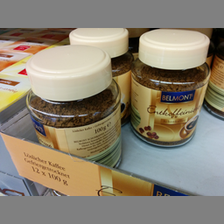coffee: (26, 43, 123, 169), (129, 30, 211, 149)
